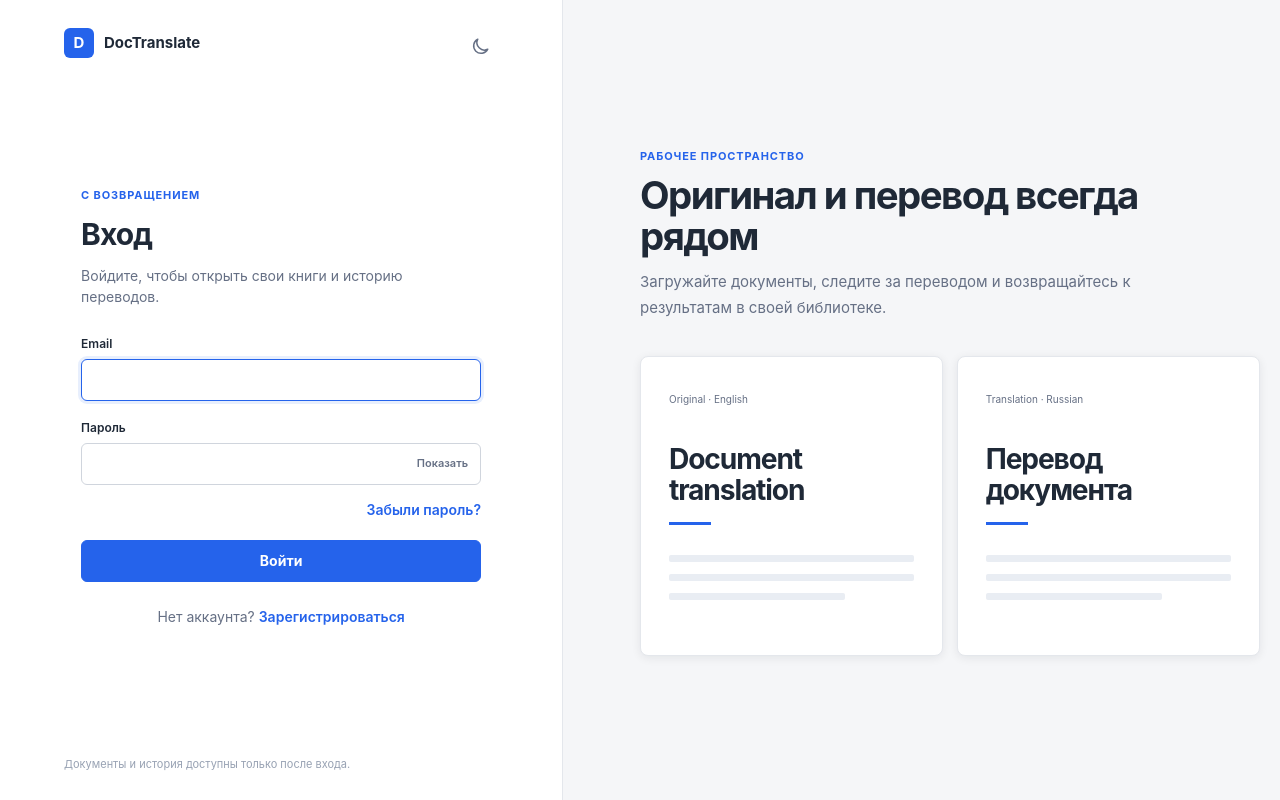
Test: authentication flow › logs in, keeps the JWT in memory and returns to the requested route
The width and height of the screenshot is (1280, 800).
Expected: the heading "Вход" is shown, [81,216,152,252]
Step 1. Type "reader@example.com" into the field labelled "Email" → coordinates (281, 380), box [81,358,481,400]
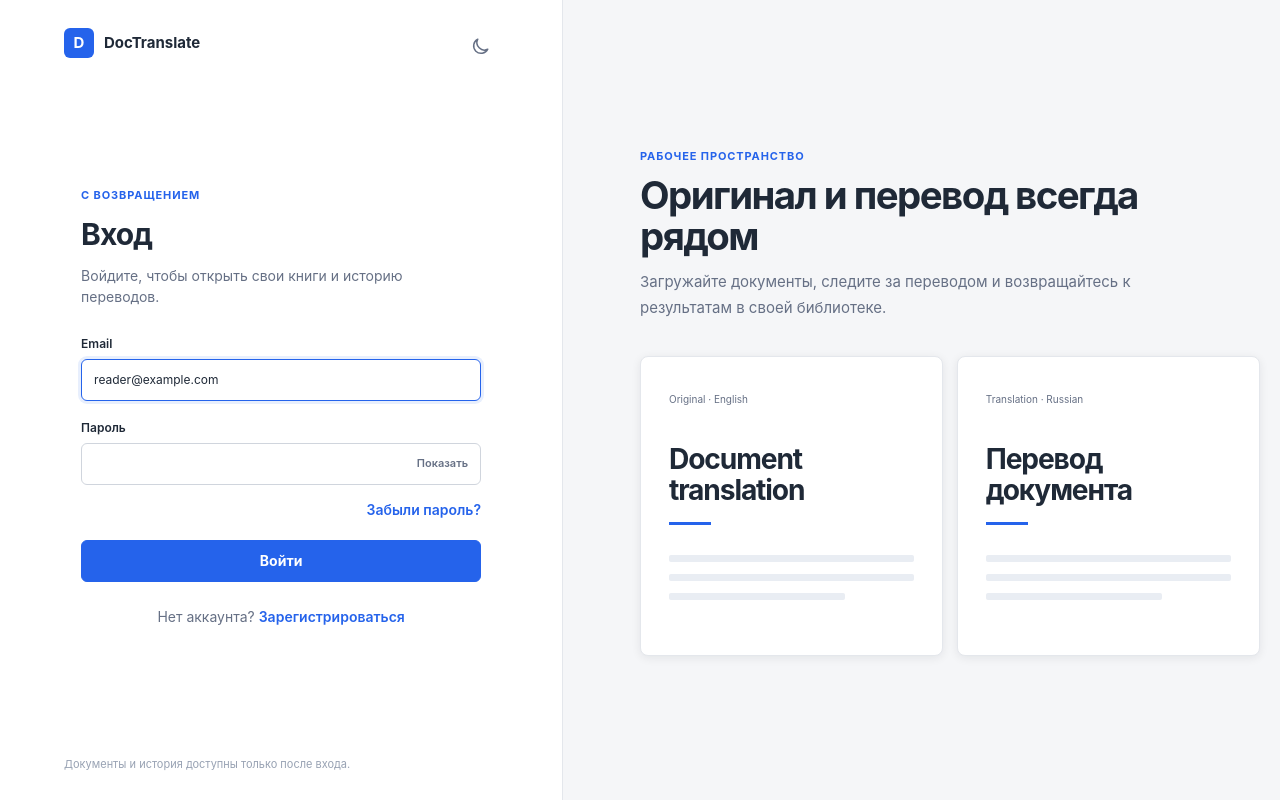
Step 2. Type "password123" into the password field labelled "Пароль" → coordinates (281, 464), box [81,442,481,484]
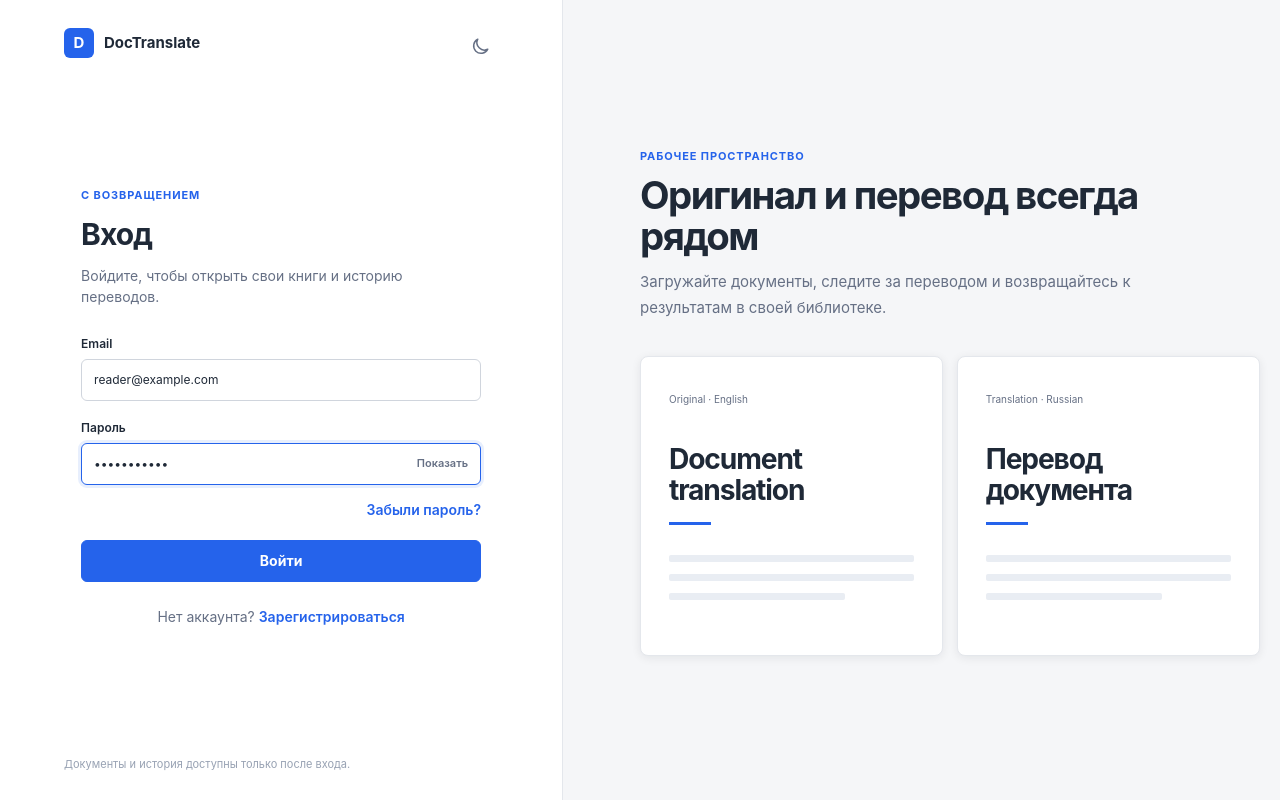
Step 3. Click the button "Войти" → coordinates (281, 560), box [81,540,481,582]
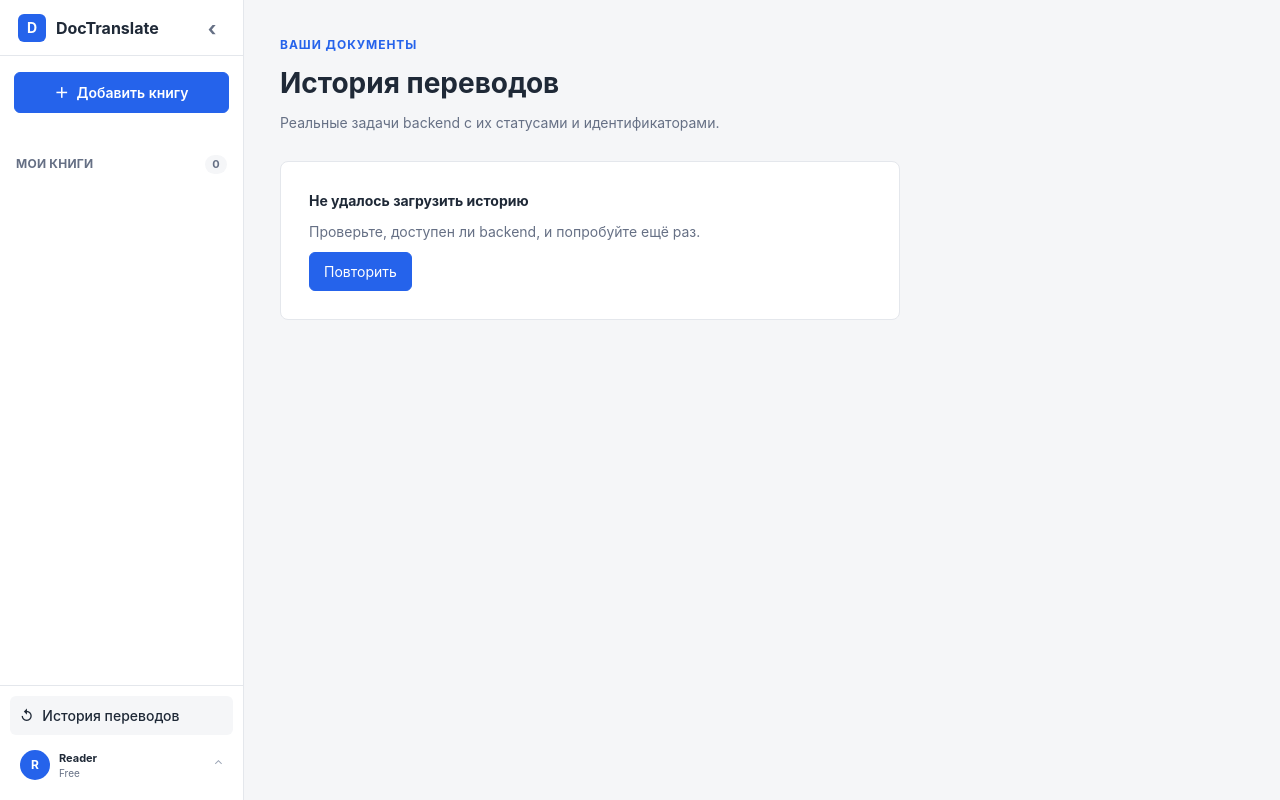
Result: the heading "История переводов" is shown at [280,66,559,100]
